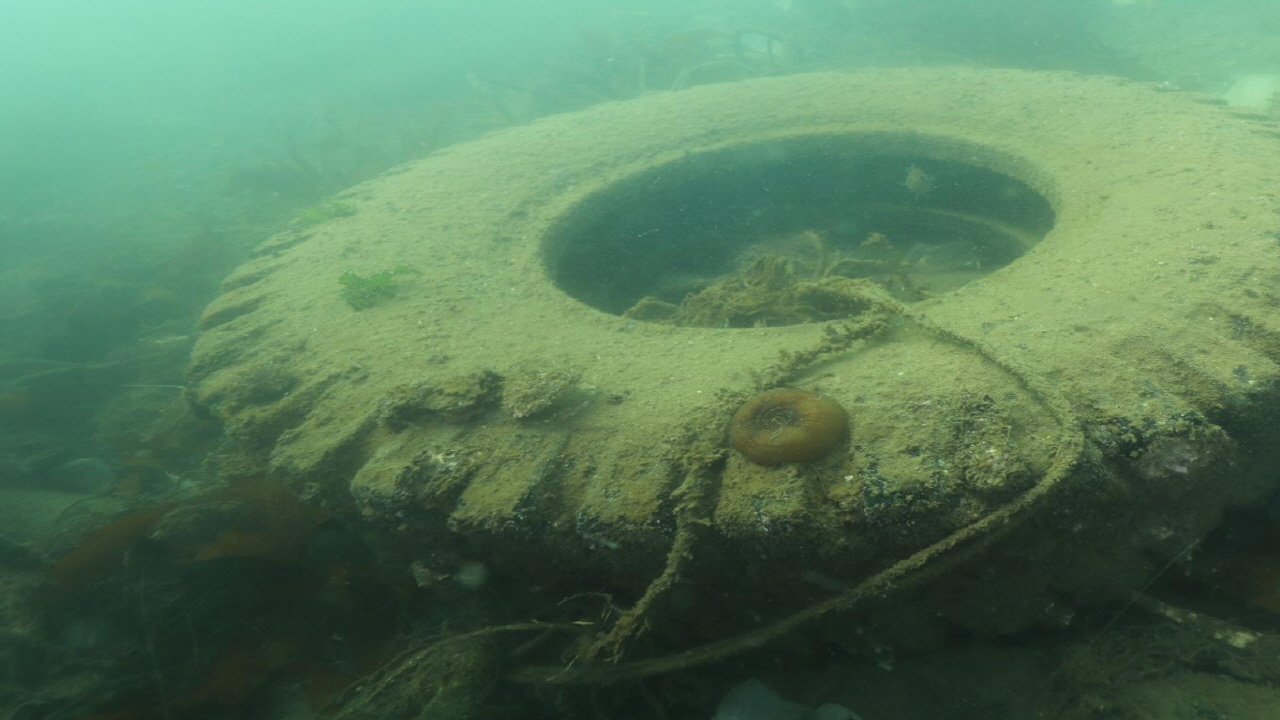bundle of ropes: (547, 275, 1093, 720)
tire: (186, 62, 1280, 637)
